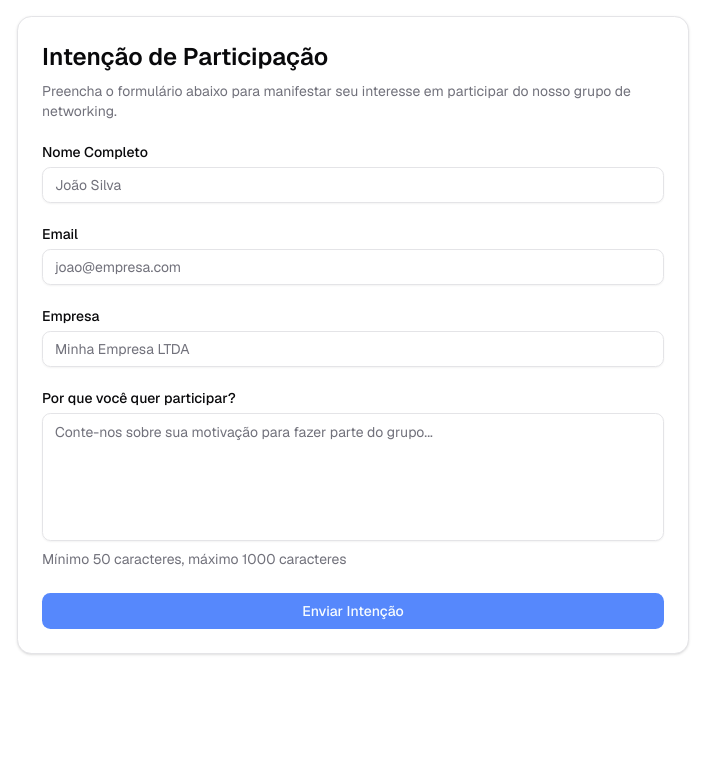
Test case: ApplyPage › deve mostrar erros de validação para campos vazios
Click the button "Enviar Intenção" at (353, 611), box [42,593,664,629]
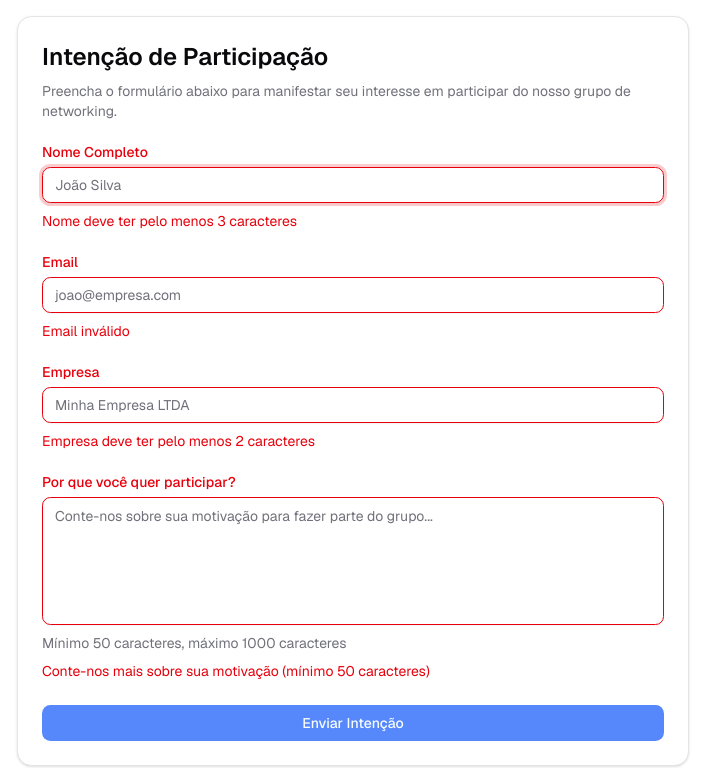
Check: the text "Nome deve ter pelo menos 3 caracteres" is shown, box [42,212,297,230]
